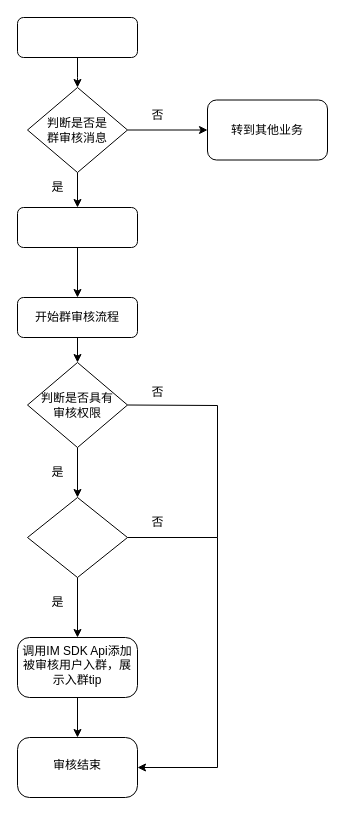
Image size: 345x815. Some labels were removed from this diagram. Here are the shapes that lost their labels. From the top down, the box of each, then its label:
(16, 16, 138, 58): IM SDK收到自定义消息
(16, 206, 138, 248): 群主、管理员收到群审核通知消息
(26, 496, 128, 578): 是否通过审核
